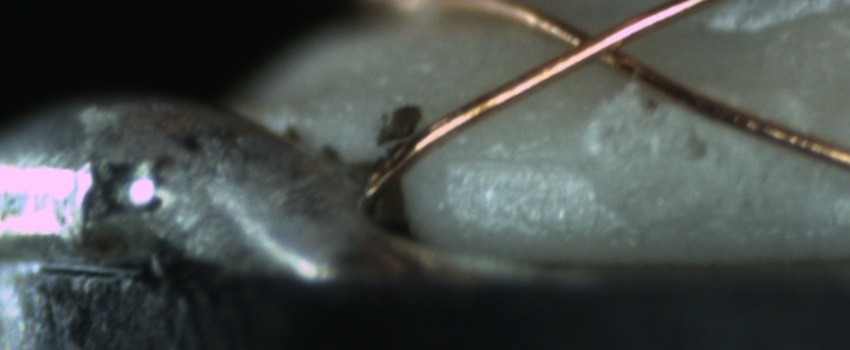CL: (541, 10, 649, 77)
DL: (441, 132, 583, 189)
